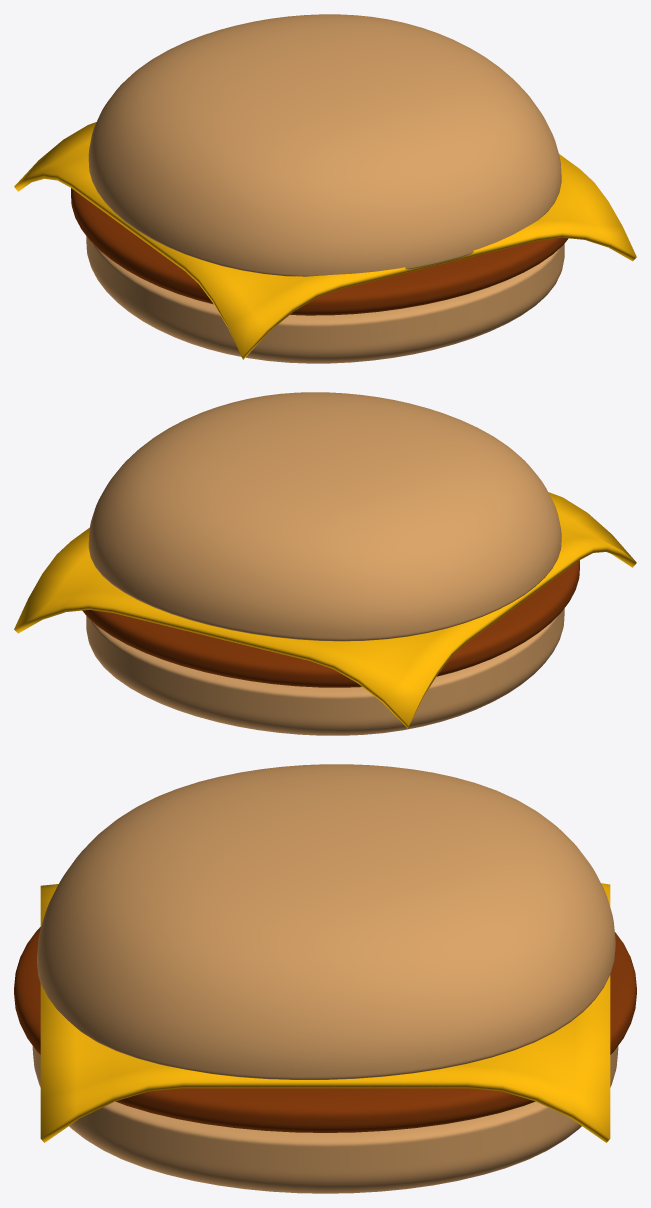
Rendered from hamburger.glb.
3 renders of one model, top to bottom at view 1: azimuth 30°, elevation 25°; view 2: azimuth 150°, elevation 25°; view 3: azimuth 270°, elevation 25°, orthographic. The views are drawn at different scales.
Parts seen in each view (by area): view 1: Cube.002, Cube, Plane, Cube.001; view 2: Cube.002, Cube, Plane, Cube.001; view 3: Cube.002, Cube, Plane, Cube.001.
Part boxes in pixels (x1,y1,x2,y2): Cube.002: [88, 14, 561, 276]; Cube: [86, 236, 564, 363]; Plane: [14, 122, 636, 359]; Cube.001: [71, 188, 568, 315]; Cube.002: [88, 392, 561, 641]; Cube: [86, 608, 564, 735]; Plane: [14, 492, 636, 728]; Cube.001: [82, 560, 579, 687]; Cube.002: [37, 764, 615, 1079]; Cube: [32, 1046, 618, 1193]; Plane: [40, 883, 610, 1142]; Cube.001: [14, 927, 636, 1132].
Bounding box in the file's own units: 9.14 × 4.56 × 9.14.
